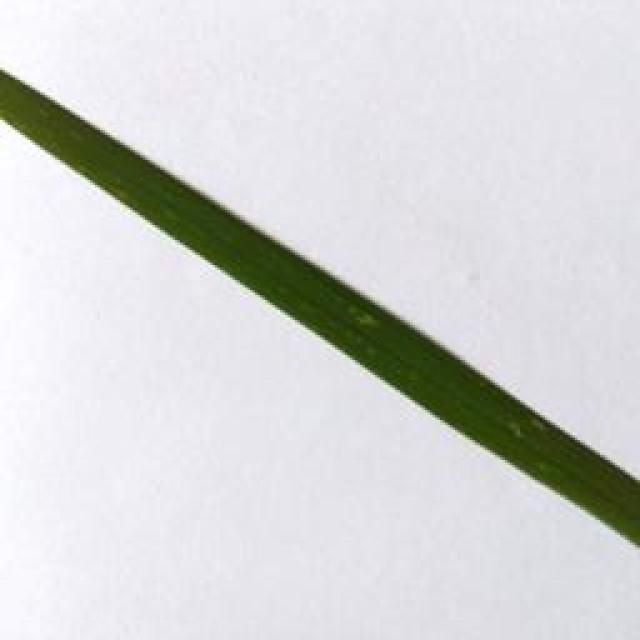Bacterial_Blight: (0, 69, 640, 538)
